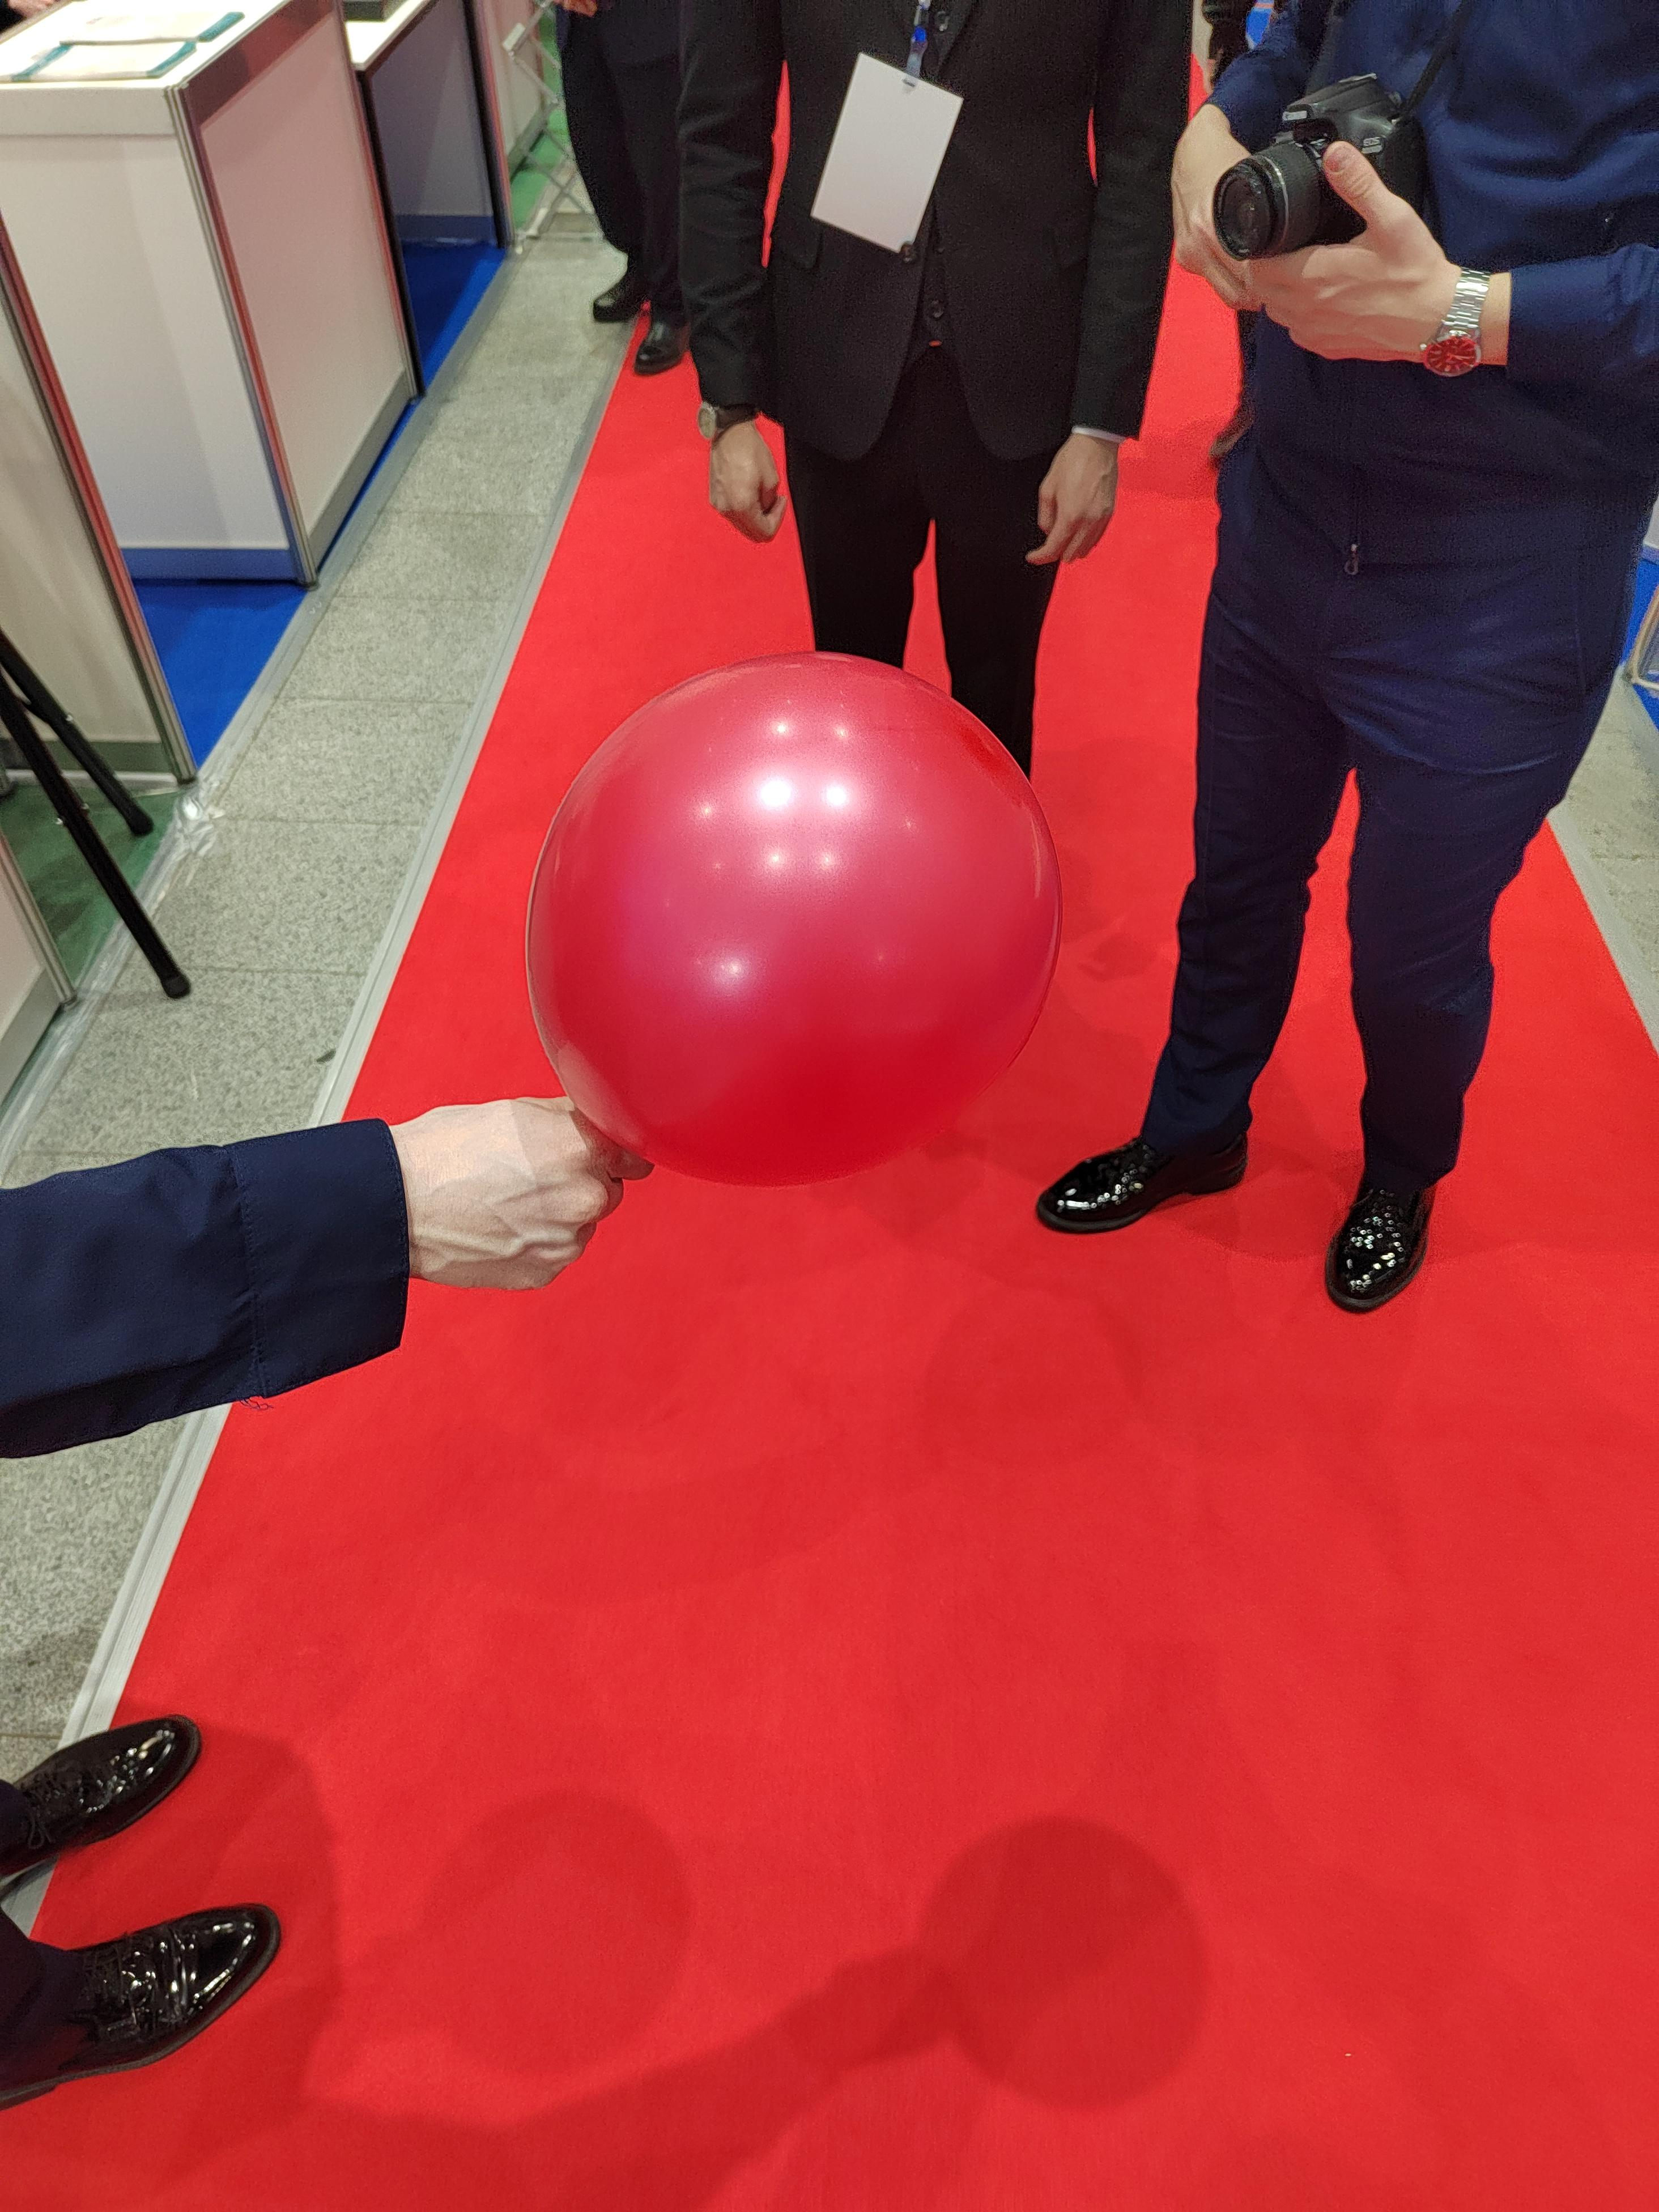red: (504, 636, 1080, 1202)
